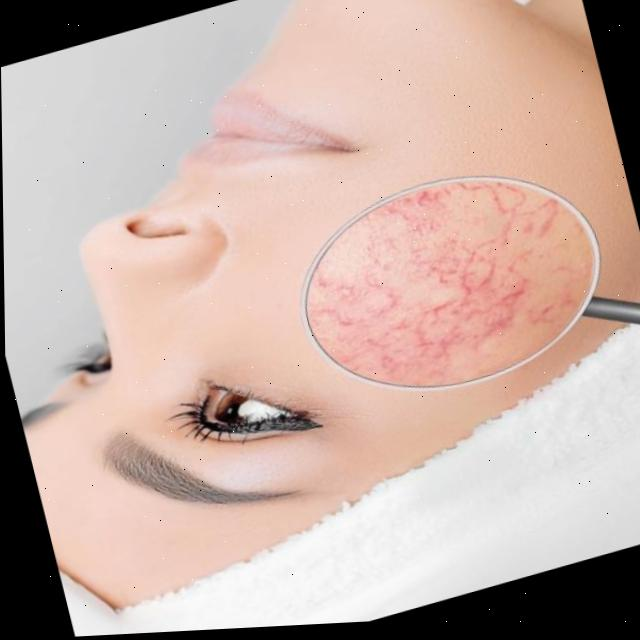Rosacea: (298, 146, 601, 419)
